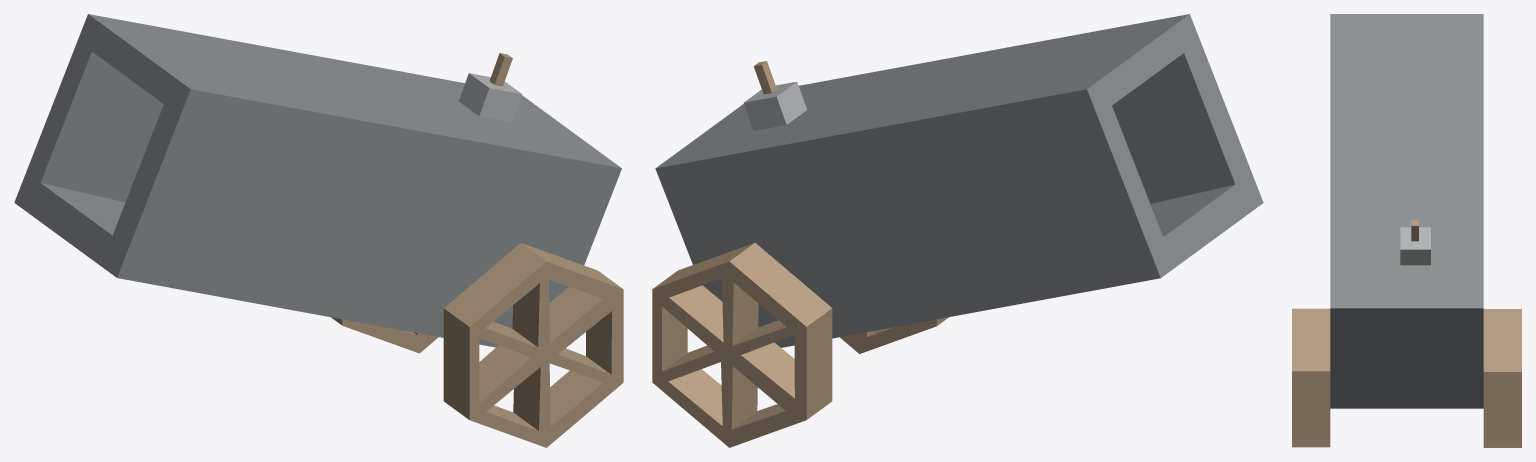
Rendered from cannon.glb.
3 renders of one model, left to right at view 1: azimuth 30°, elevation 25°; view 2: azimuth 150°, elevation 25°; view 3: azimuth 270°, elevation 25°, orthographic. The views are drawn at different scales.
Parts seen in each view (by area): view 1: Mesh_Mesh_head_geo.001_lambert2SG.001; view 2: Mesh_Mesh_head_geo.001_lambert2SG.001; view 3: Mesh_Mesh_head_geo.001_lambert2SG.001.
Boxes of the visible parts, <box> form: Mesh_Mesh_head_geo.001_lambert2SG.001: <box>14,14,623,447</box>; Mesh_Mesh_head_geo.001_lambert2SG.001: <box>652,14,1263,447</box>; Mesh_Mesh_head_geo.001_lambert2SG.001: <box>1292,14,1521,447</box>.
Size of the model in its own units: 56.72 by 45.12 by 30.
